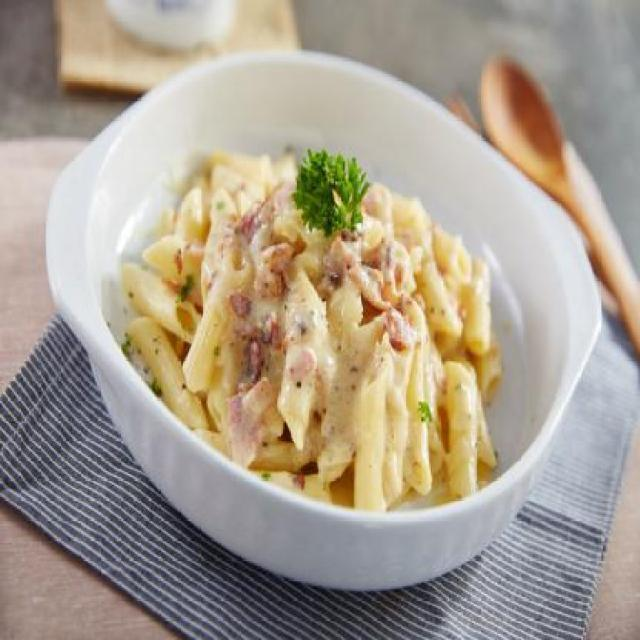Pasta with carbonara sauce: (107, 71, 547, 554)
